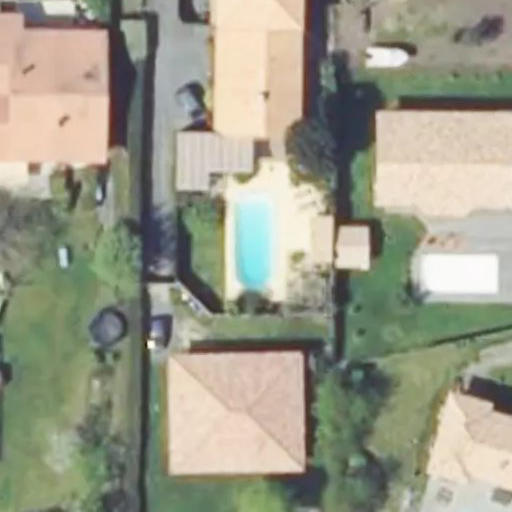pool: (232, 200, 273, 291)
